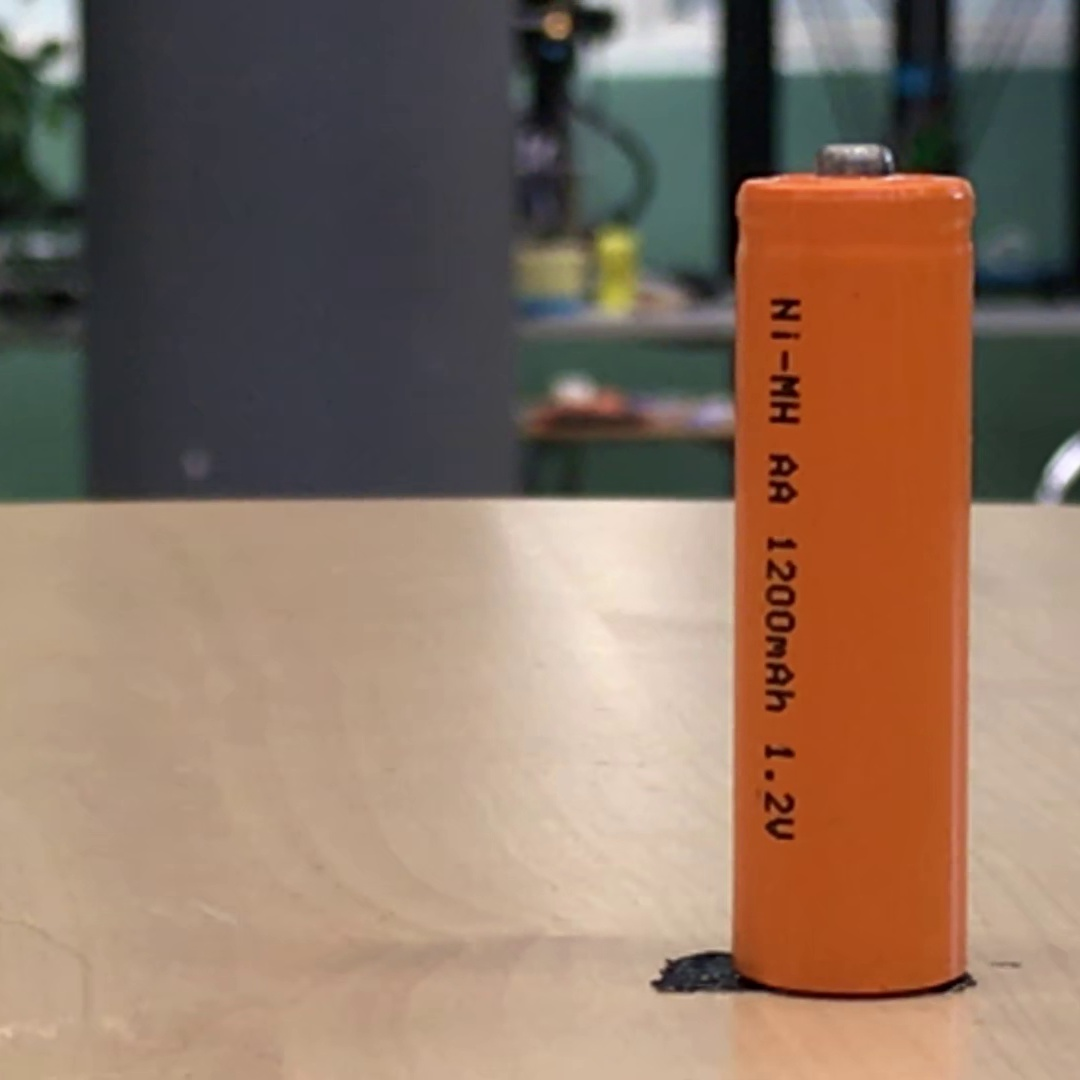keyword: (761, 288, 810, 434)
